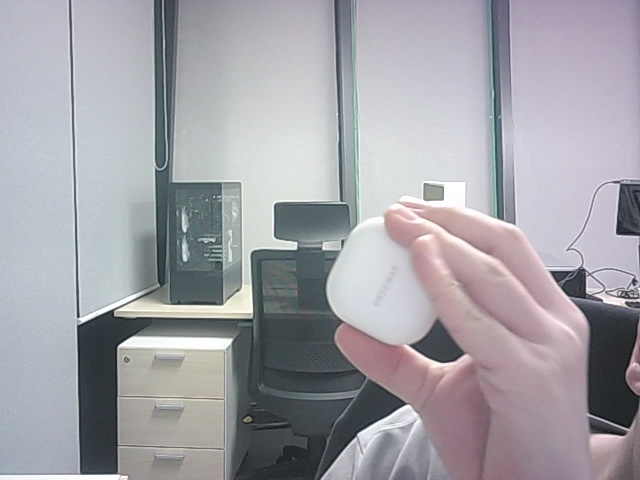case: (326, 217, 435, 343)
